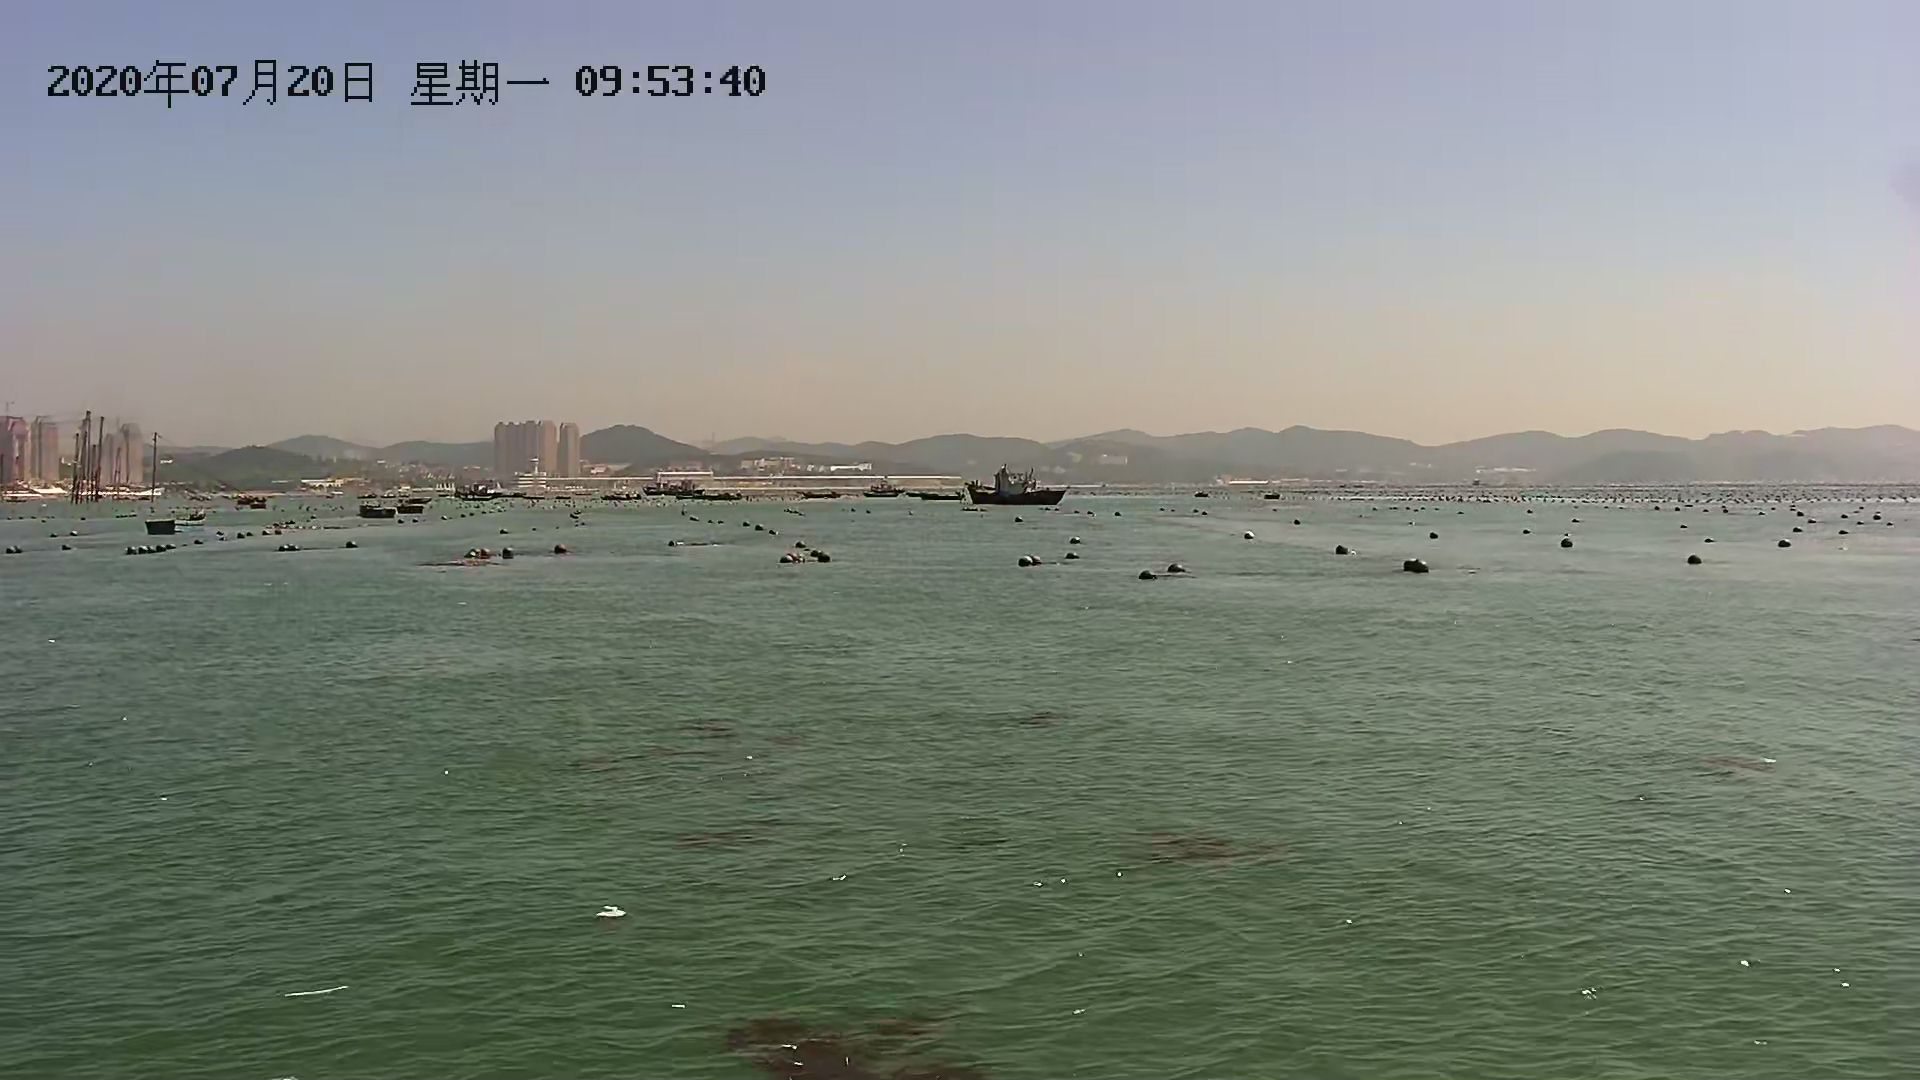ball: (1399, 556, 1433, 579), (497, 542, 521, 563), (1139, 563, 1164, 583), (1018, 550, 1043, 570), (550, 541, 572, 560), (811, 549, 837, 564), (1557, 529, 1572, 551), (1688, 555, 1706, 570)
boat: (669, 487, 754, 506), (868, 477, 913, 498), (357, 502, 400, 520)
mast: (146, 425, 162, 513)
ship: (961, 460, 1067, 512)
